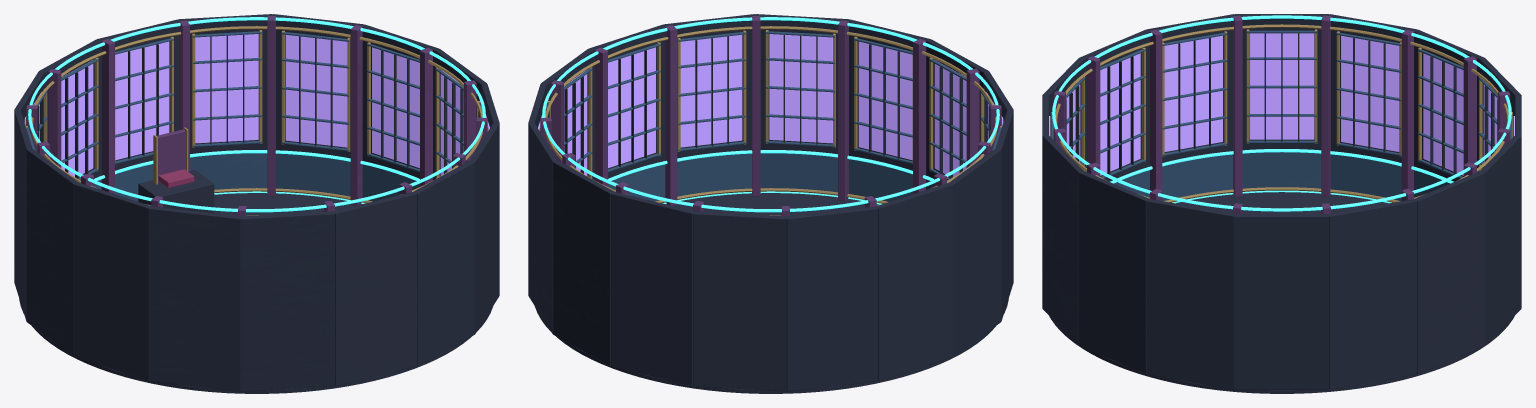
The model's file is court3d__courtroom_stage.glb.
3 renders of one model, left to right at view 1: azimuth 30°, elevation 25°; view 2: azimuth 150°, elevation 25°; view 3: azimuth 270°, elevation 25°, orthographic.
Visible parts, largest first — view 1: CourtRoom; view 2: CourtRoom; view 3: CourtRoom.
Boxes of the visible parts, box(x1,y1,x2,y2) form: CourtRoom: box(14, 14, 499, 393); CourtRoom: box(528, 14, 1013, 393); CourtRoom: box(1042, 14, 1521, 393).
Bounding box in the file's own units: 26.05 × 10.85 × 26.05.
1 material, 1 textured.
